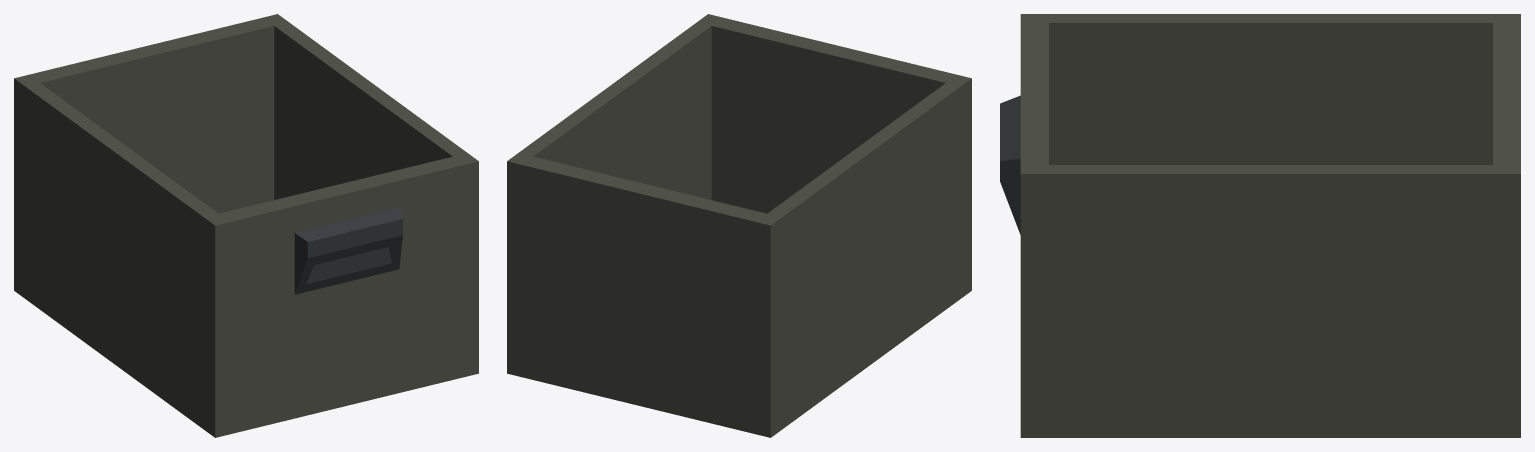
Rendered from SM_Prop_Lockers_Drawer_05.fbx.
3 views of the same model, side by side, from view 1: azimuth 30°, elevation 25°; view 2: azimuth 150°, elevation 25°; view 3: azimuth 270°, elevation 25° (orthographic). The views are drawn at different scales.
Parts seen in each view (by area): view 1: SM_Prop_Lockers_Drawer_05; view 2: SM_Prop_Lockers_Drawer_05; view 3: SM_Prop_Lockers_Drawer_05.
Boxes of the visible parts, x1,y1,x2,y2 form: SM_Prop_Lockers_Drawer_05: (14, 14, 478, 437); SM_Prop_Lockers_Drawer_05: (507, 14, 971, 437); SM_Prop_Lockers_Drawer_05: (1000, 14, 1520, 437).
Bounding box in the file's own units: 39.37 × 30.29 × 54.17.
